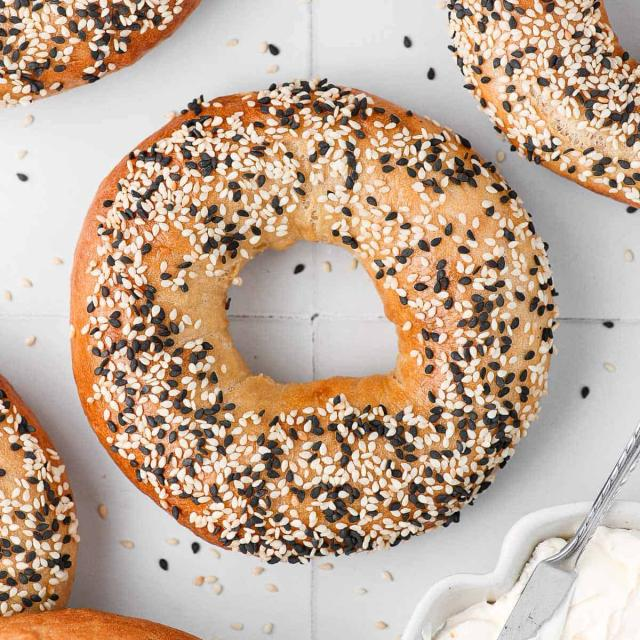Bagel: (71, 80, 556, 562)
